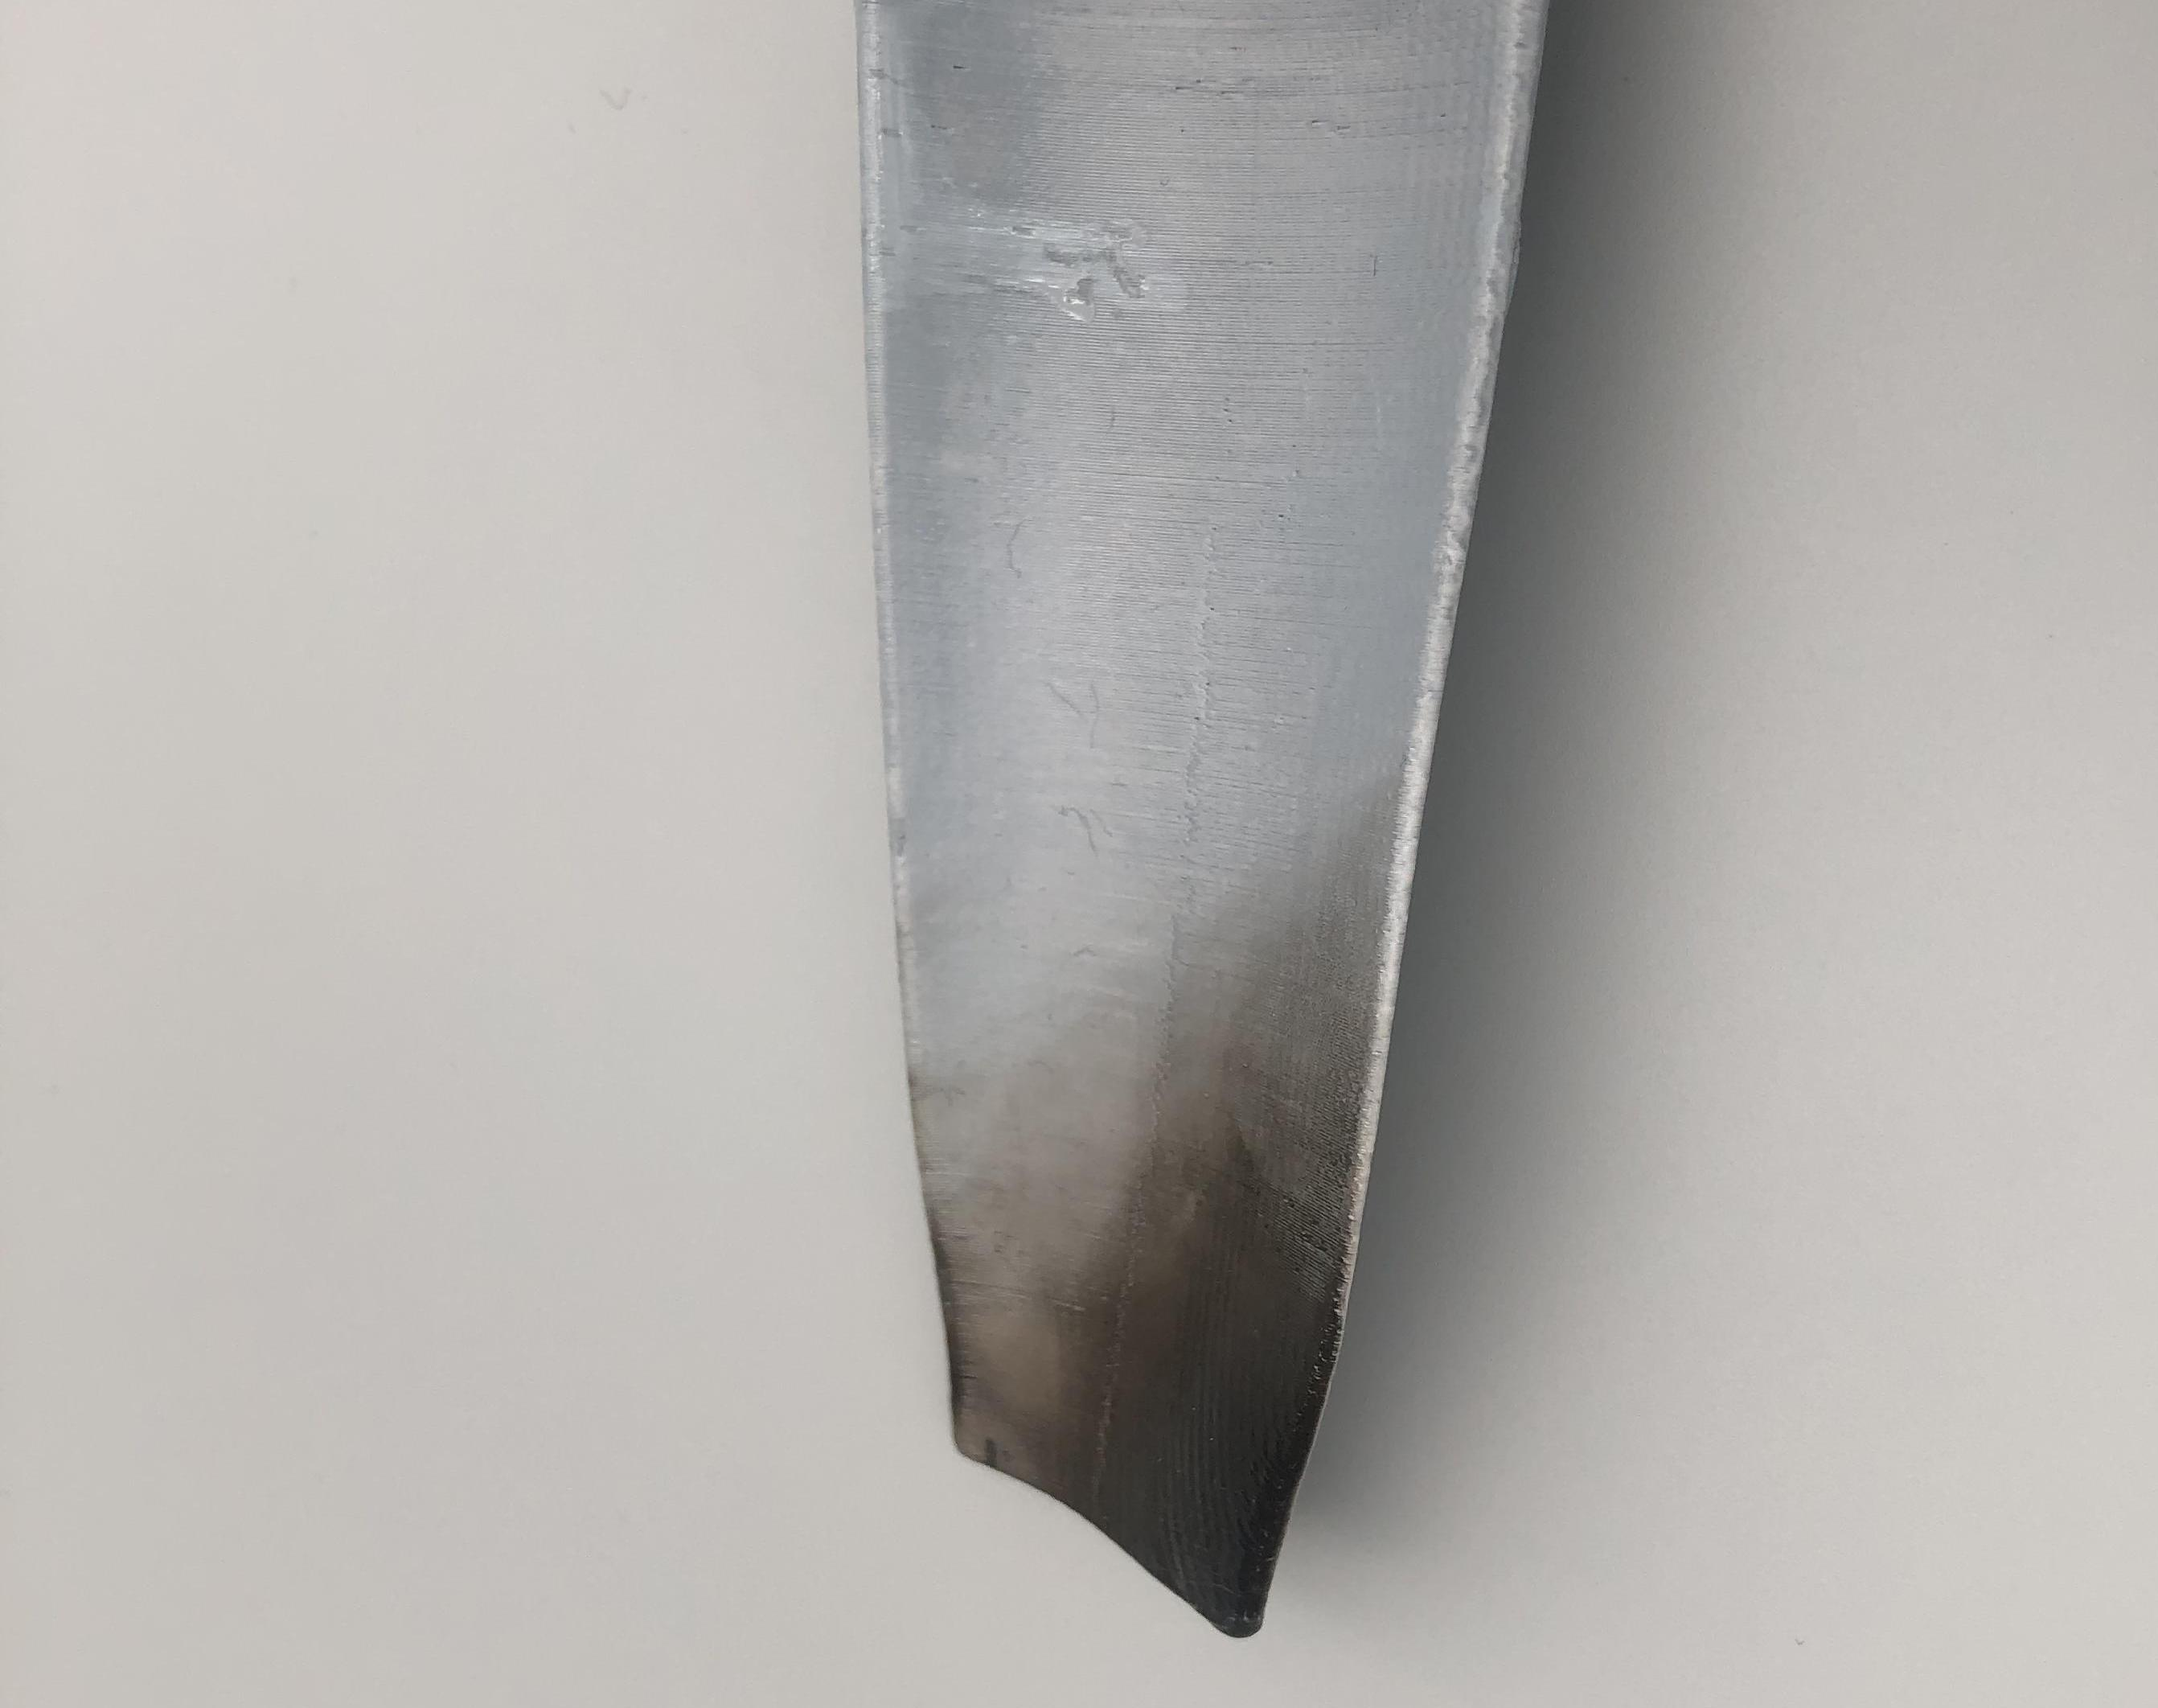ablation: (956, 1196, 1293, 1543)
